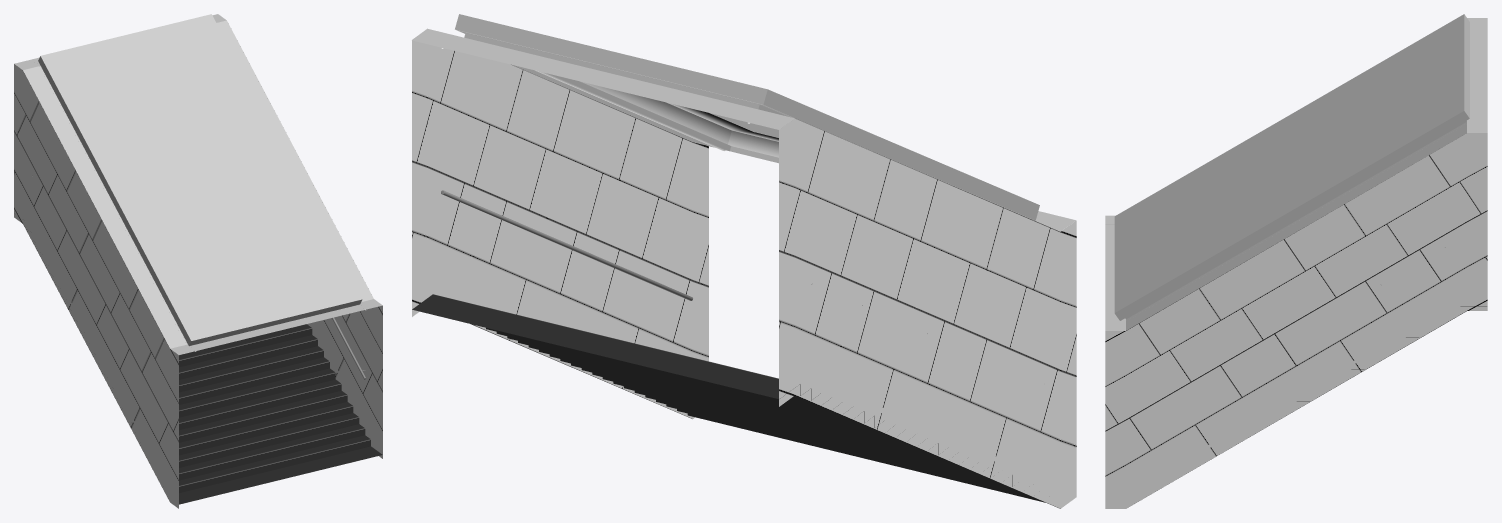
The model's file is Stairs01_500x700cm.FBX.
3 renders of one model, left to right at view 1: azimuth 30°, elevation 25°; view 2: azimuth 150°, elevation 25°; view 3: azimuth 270°, elevation 25°, orthographic. The views are drawn at different scales.
Visible parts, largest first — view 1: Ceiling, Walls, Stairs; view 2: Walls, Stairs, Ceiling, Backlight; view 3: Walls, Ceiling.
Boxes of the visible parts, x1,y1,x2,y2 form: Ceiling: (14,14,382,354); Walls: (14,64,382,508); Stairs: (89,196,382,504); Walls: (412,40,1076,508); Stairs: (412,294,1045,502); Ceiling: (412,14,1075,231); Backlight: (456,30,1034,220); Walls: (1105,133,1487,508); Ceiling: (1105,14,1487,330).
Size of the model in its own units: 5003 by 7864 by 7002.
